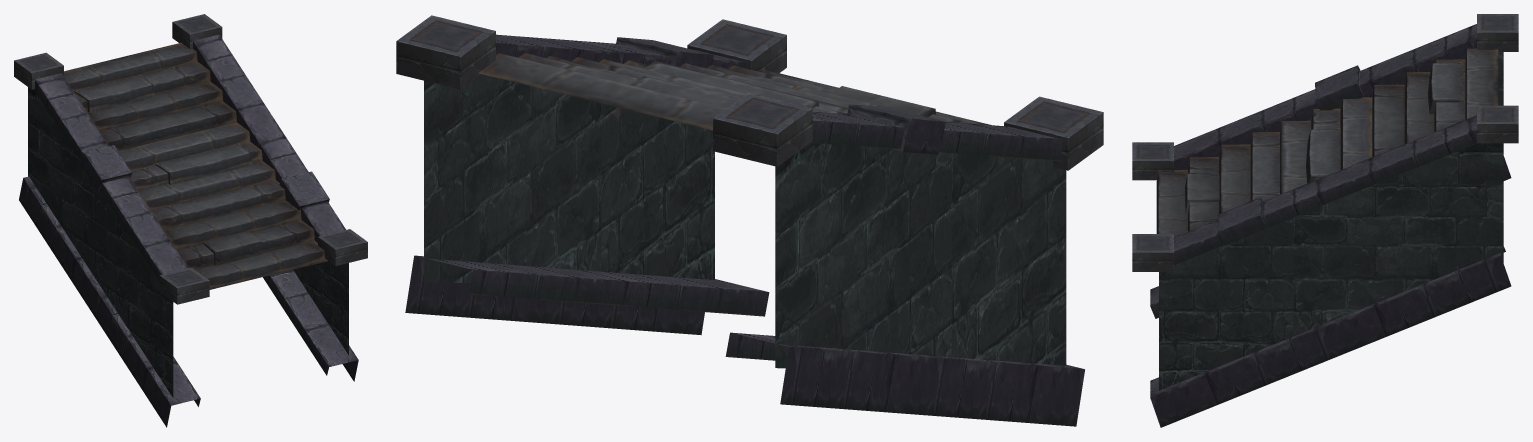
File: building_section02_guanka10C04.FBX
3 renders of one model, left to right at view 1: azimuth 30°, elevation 25°; view 2: azimuth 150°, elevation 25°; view 3: azimuth 270°, elevation 25°, orthographic. The views are drawn at different scales.
Visible parts, largest first — view 1: building_section02_guanka10C04; view 2: building_section02_guanka10C04; view 3: building_section02_guanka10C04.
Part boxes in pixels (box(x1,y1,x2,y2)): building_section02_guanka10C04: box(14, 14, 367, 427); building_section02_guanka10C04: box(396, 15, 1103, 426); building_section02_guanka10C04: box(1132, 14, 1518, 427).
Bounding box in the file's own units: 7.71 × 9.94 × 11.43.
